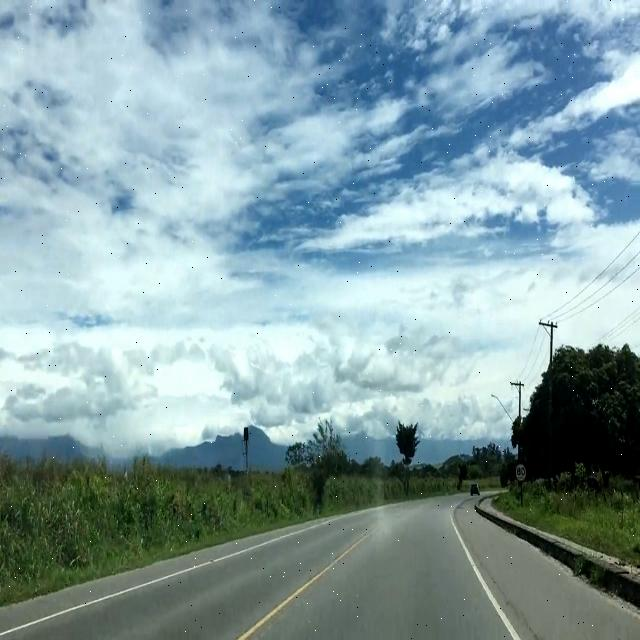lane: (1, 521, 328, 637), (235, 545, 354, 640), (457, 530, 521, 640)
road: (0, 493, 640, 638)
